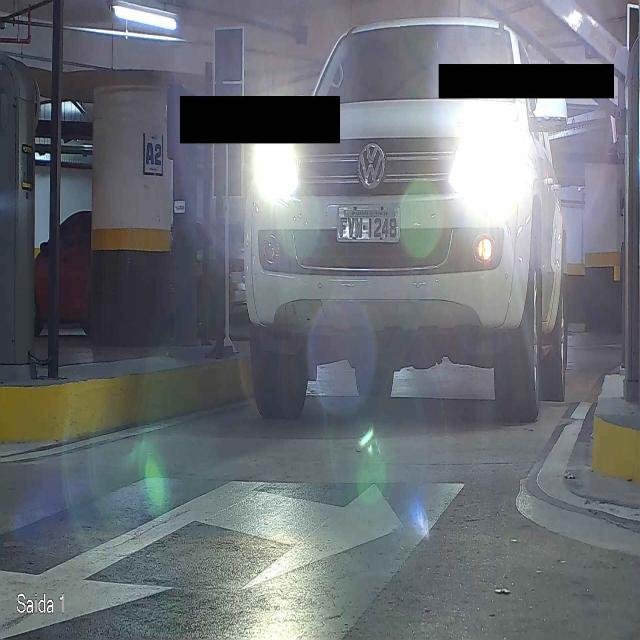old_plate: (335, 203, 403, 244)
